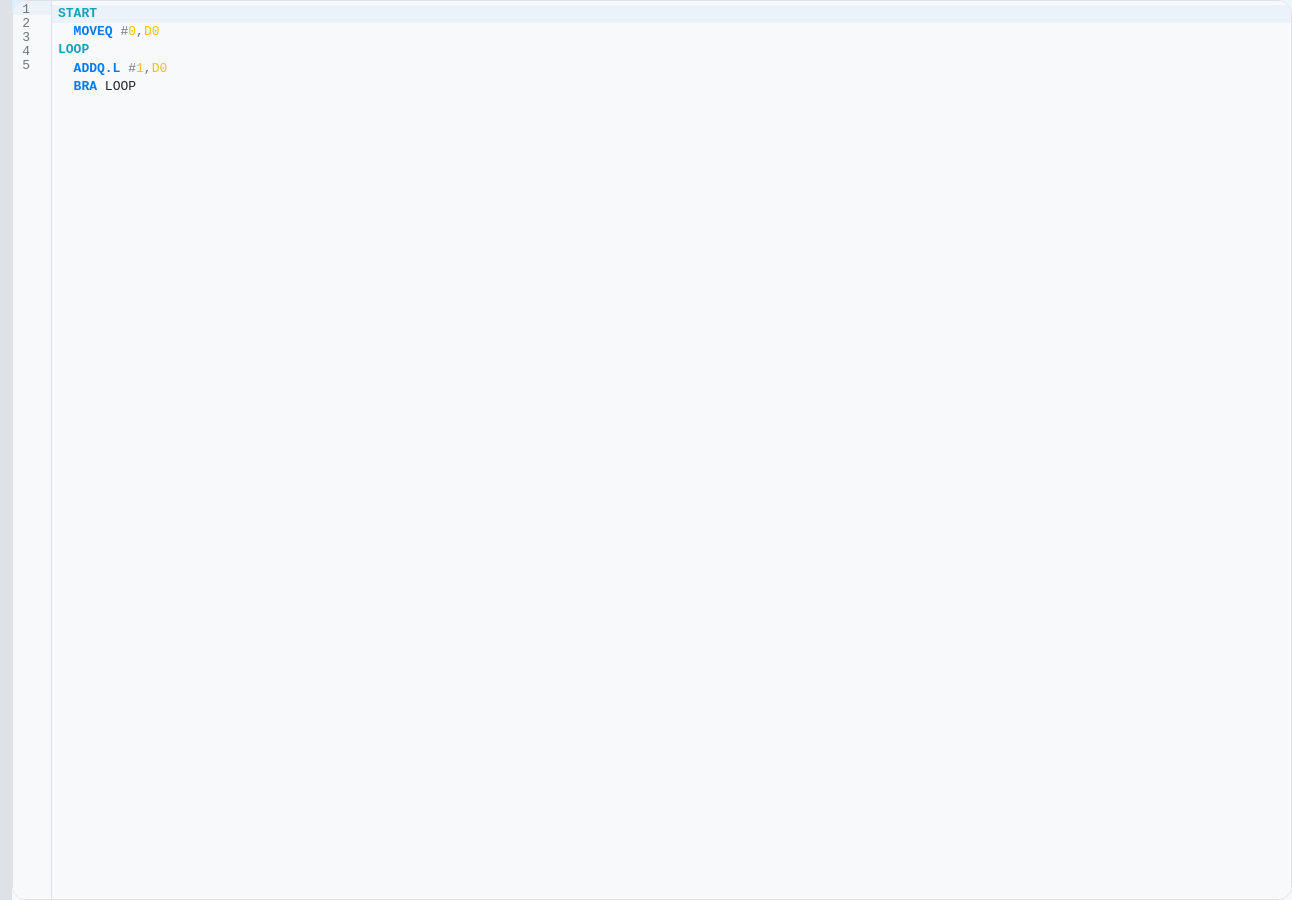
Scenario: Editor debugger gutters › opens breakpoint actions from the printed line-number context menu
Right-click the text with class "cm-gutterElement" showing "1" at (23, 8), box x1=13 y1=1 x2=33 y2=15
(page scrolled)
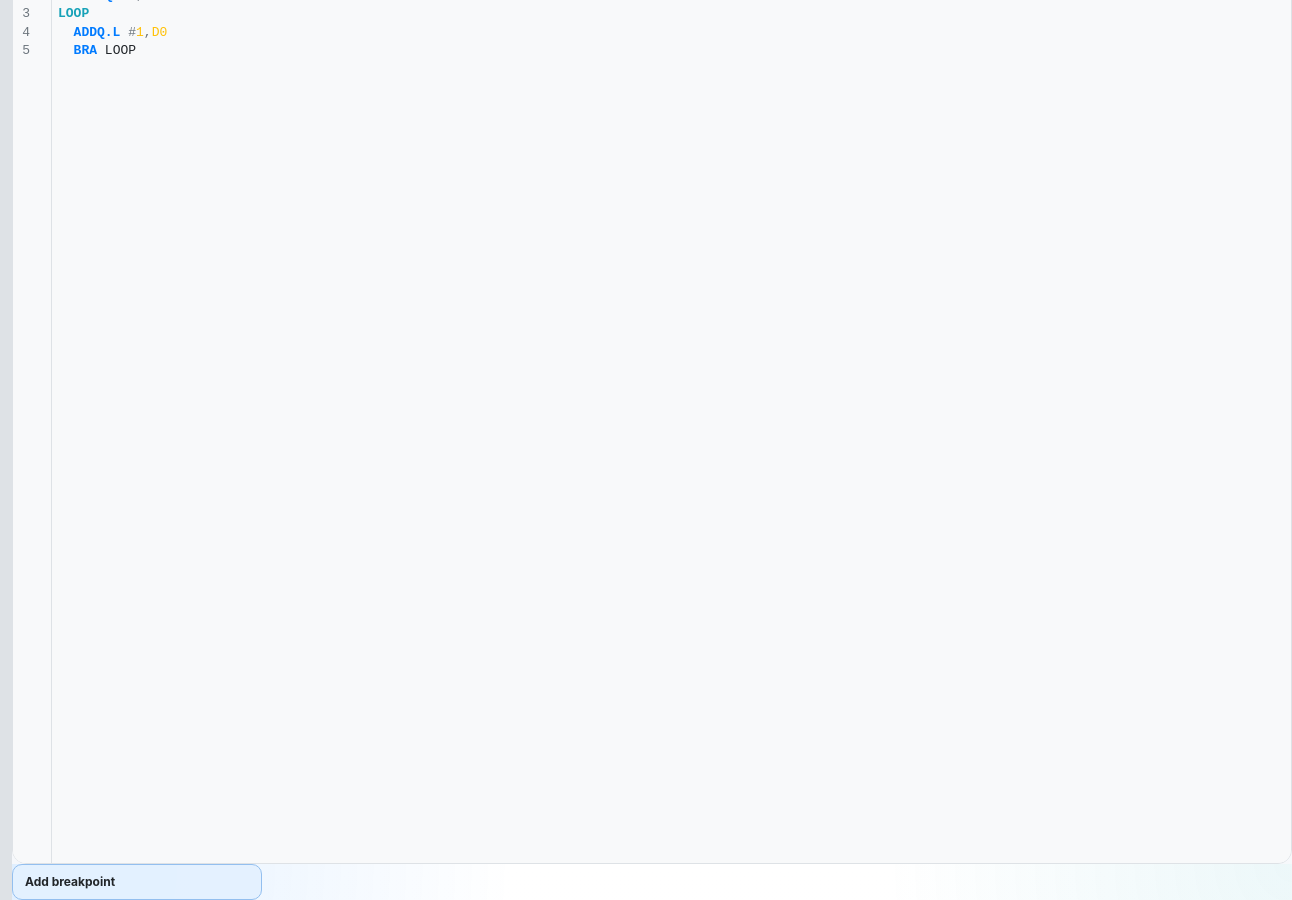
Check: the menu item "Add breakpoint" is shown, box x1=12 y1=864 x2=262 y2=899
